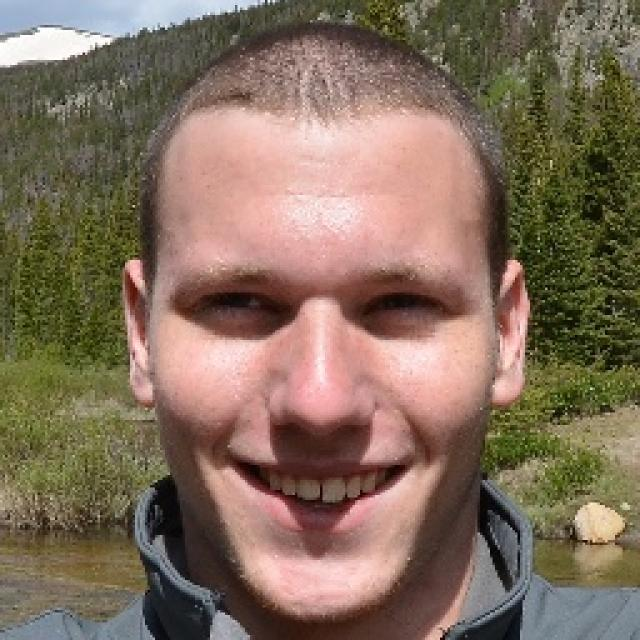earlobe: (491, 358, 524, 410), (129, 353, 154, 409)
eye: (359, 289, 448, 322), (191, 288, 278, 314)
nose: (268, 420, 373, 457)
wholeear: (491, 258, 528, 410), (121, 260, 155, 408)
